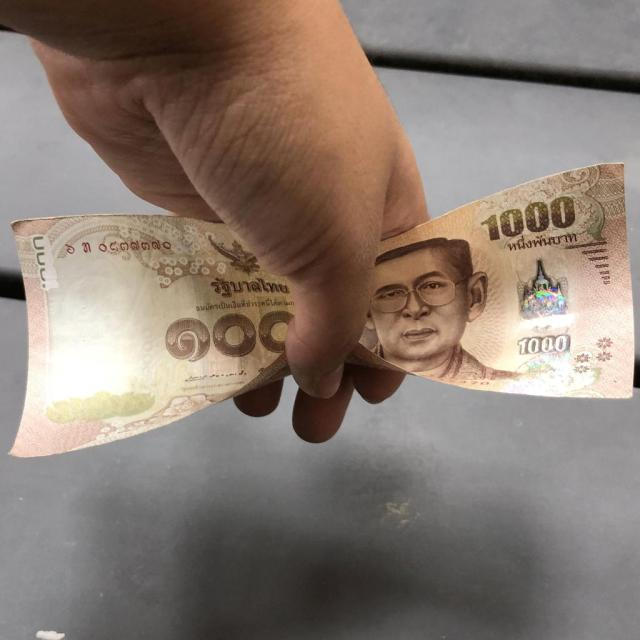THAI1000: (10, 214, 293, 461), (359, 163, 636, 401)
